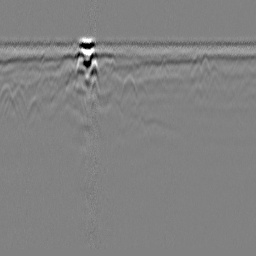cavity: (118, 71, 138, 103)
